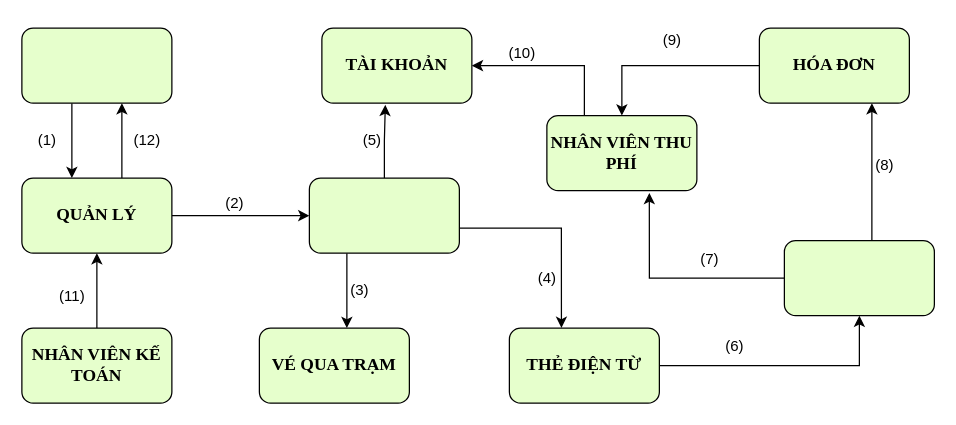
This 956x425 diagram has some shape labels left out. The box of each missing label's shape, as (x1, y1, x2, y2) in pixels:
KHÁCH HÀNG: (783, 239, 934, 316)
NHÂN VIÊN HỆ THỐNG: (308, 177, 459, 253)
TRẠM BOT: (21, 27, 172, 103)
